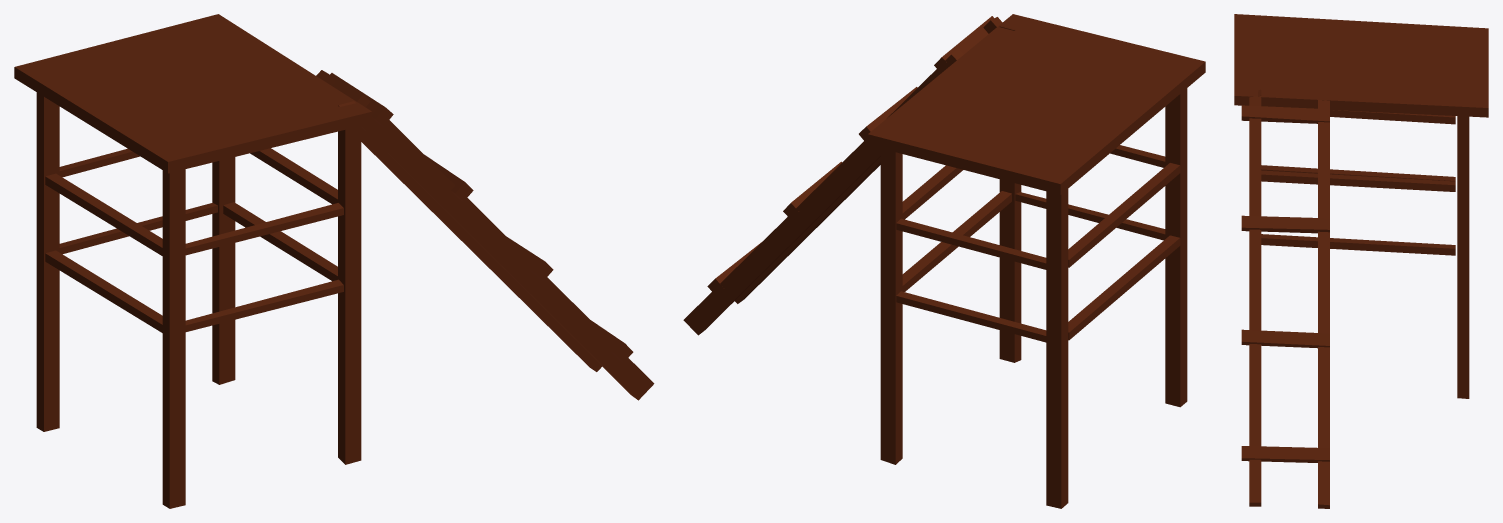
The model's file is balcon.FBX.
3 renders of one model, left to right at view 1: azimuth 30°, elevation 25°; view 2: azimuth 150°, elevation 25°; view 3: azimuth 270°, elevation 25°, orthographic. The views are drawn at different scales.
Visible parts, largest first — view 1: balcon; view 2: balcon; view 3: balcon.
Boxes of the visible parts, bbox=[...] form: balcon: bbox=[14, 14, 654, 508]; balcon: bbox=[683, 14, 1205, 508]; balcon: bbox=[1234, 14, 1488, 508].
Bounding box in the file's own units: 42.26 × 30.7 × 22.7.
